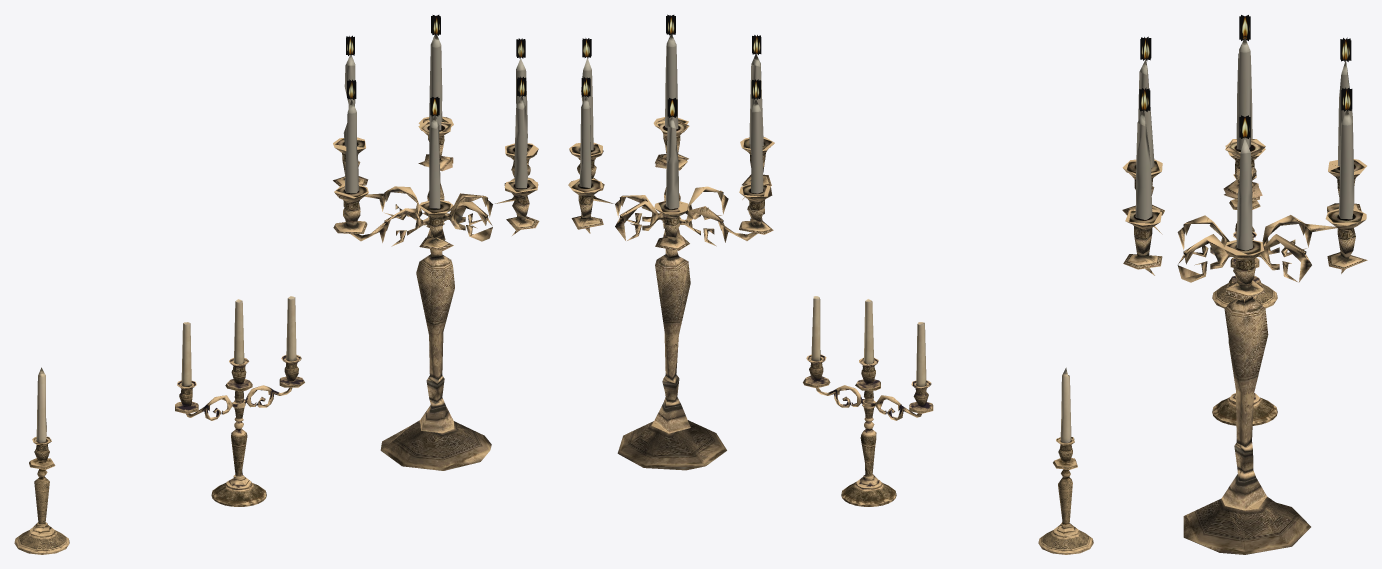
Rendered from candleholders.glb.
The picture shows the model from 3 angles, left to right: view 1: azimuth 30°, elevation 25°; view 2: azimuth 150°, elevation 25°; view 3: azimuth 270°, elevation 25°; orthographic projection. The views are drawn at different scales.
Visible parts, largest first — view 1: brass_candleholder_03, brass_candleholder_02, brass_candleholder_01; view 2: brass_candleholder_03, brass_candleholder_02, brass_candleholder_01; view 3: brass_candleholder_03, brass_candleholder_02, brass_candleholder_01.
Boxes of the visible parts, bbox=[...] form: brass_candleholder_03: bbox=[333, 15, 539, 470]; brass_candleholder_02: bbox=[175, 296, 304, 506]; brass_candleholder_01: bbox=[14, 367, 69, 554]; brass_candleholder_03: bbox=[568, 14, 774, 470]; brass_candleholder_02: bbox=[803, 296, 933, 506]; brass_candleholder_01: bbox=[1038, 367, 1093, 554]; brass_candleholder_03: bbox=[1122, 15, 1367, 554]; brass_candleholder_02: bbox=[1212, 231, 1277, 425]; brass_candleholder_01: bbox=[1212, 174, 1277, 308].
Size of the model in its own units: 1.05 by 0.8353 by 0.3644.
Materials: 5 (5 with a texture image).
